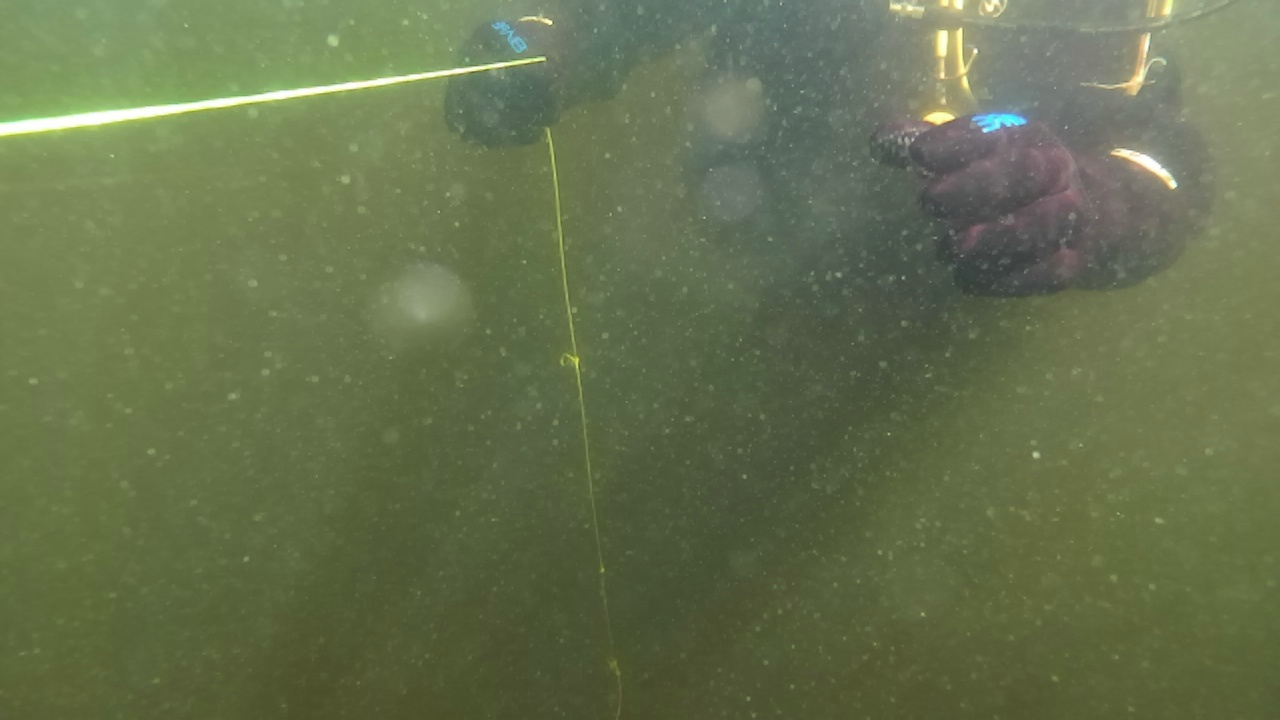Diver: (412, 2, 1230, 322)
Hand: (870, 104, 1138, 298), (436, 20, 604, 144)
